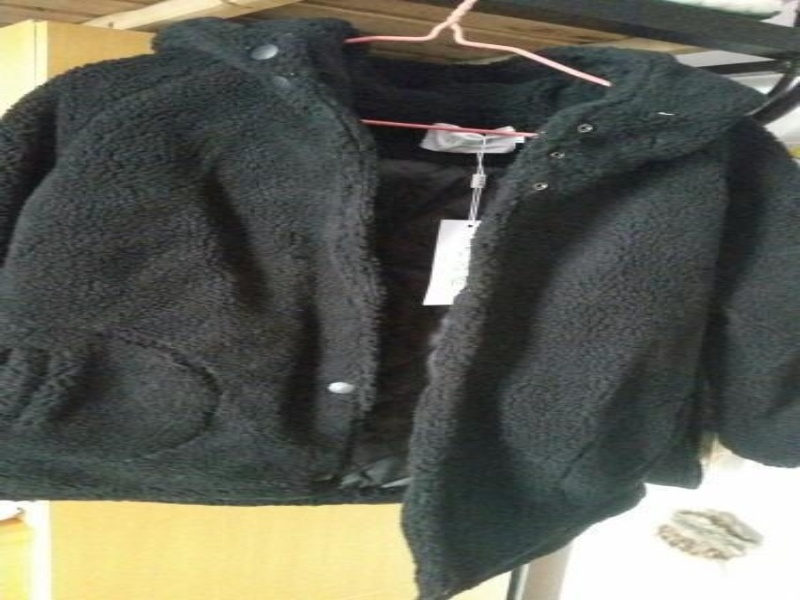long_sleeved_outwear: (0, 11, 794, 598)
